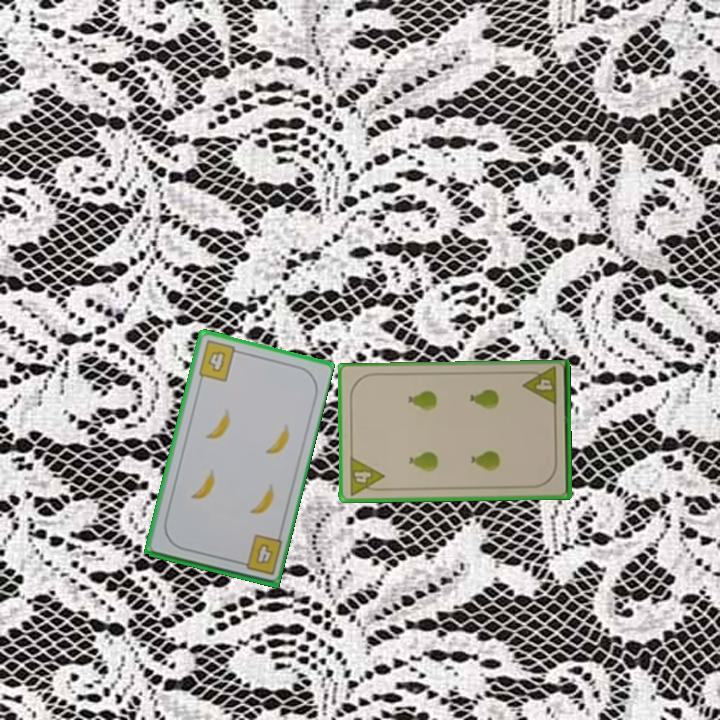4b: (195, 337, 244, 385), (234, 531, 285, 577)
4p: (345, 454, 387, 498), (520, 365, 560, 409)
